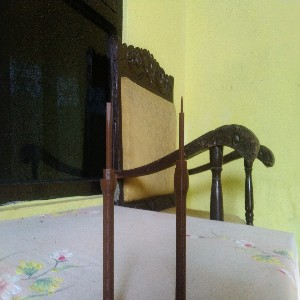obeng: (99, 101, 116, 300)
solder: (173, 96, 190, 300)
